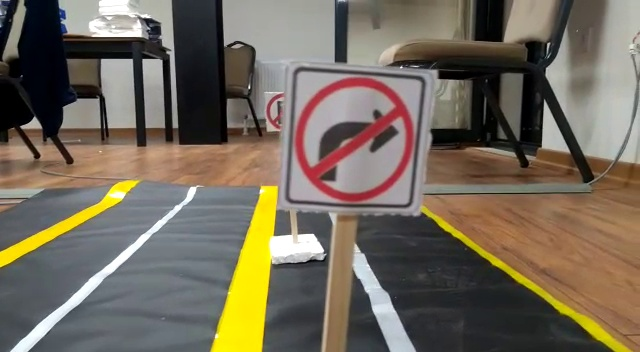saga_donulmez: (292, 68, 416, 207)
